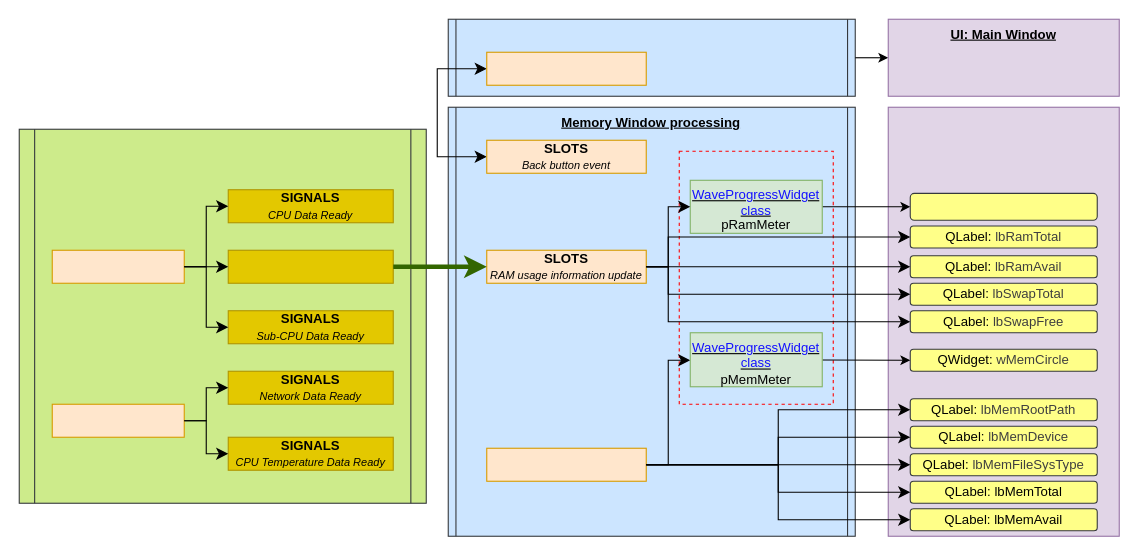
This 1139x556 diagram has some shape labels left out. Each missing label, with the box of its shape:
AppDataProcessing class Data processing thread: lpProcessor: (18, 128, 426, 503)
Custom Widget objects: (678, 150, 833, 404)
Main Window processing: (447, 18, 855, 96)
QWidget: wRamCircle: (909, 192, 1097, 220)
SIGNALS RAM Data Ready: (227, 249, 393, 283)
SLOTS Memory Window open: (486, 51, 646, 85)
SLOTS Timer exceed: (486, 447, 646, 481)
SLOTS Timer Exceed - Fast: (51, 249, 184, 283)
SLOTS Timer Exceed - Low: (51, 403, 184, 437)
UI: Memory Window: (887, 106, 1119, 536)
